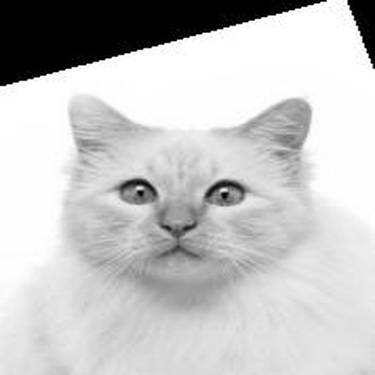cat: (61, 82, 315, 314)
